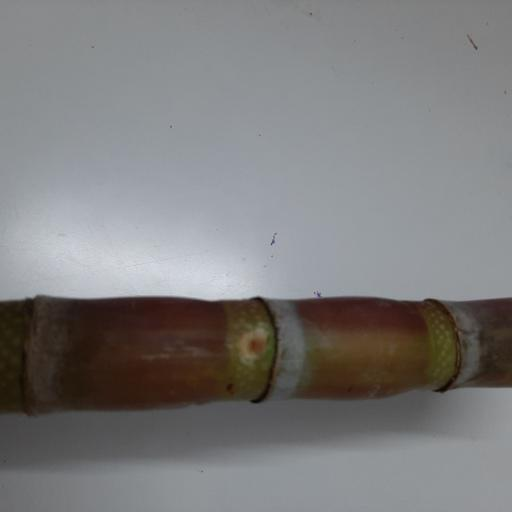Damage_Bud: (239, 325, 270, 362)
